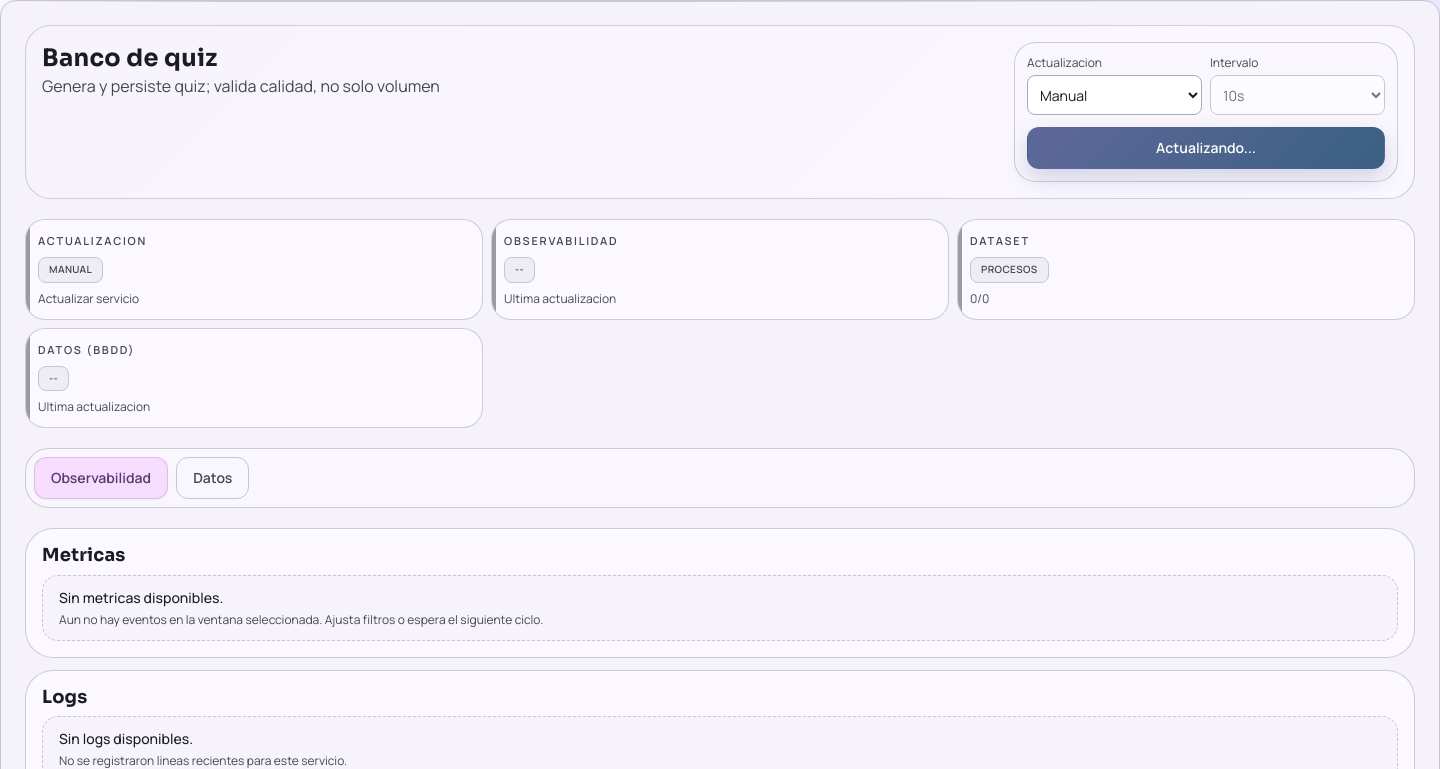
it: ServiceConsolePanel integration › shows and clears follow-task state inside process filters
Step 1. Click the tab "Datos" → (213, 478), box [176,457,249,499]
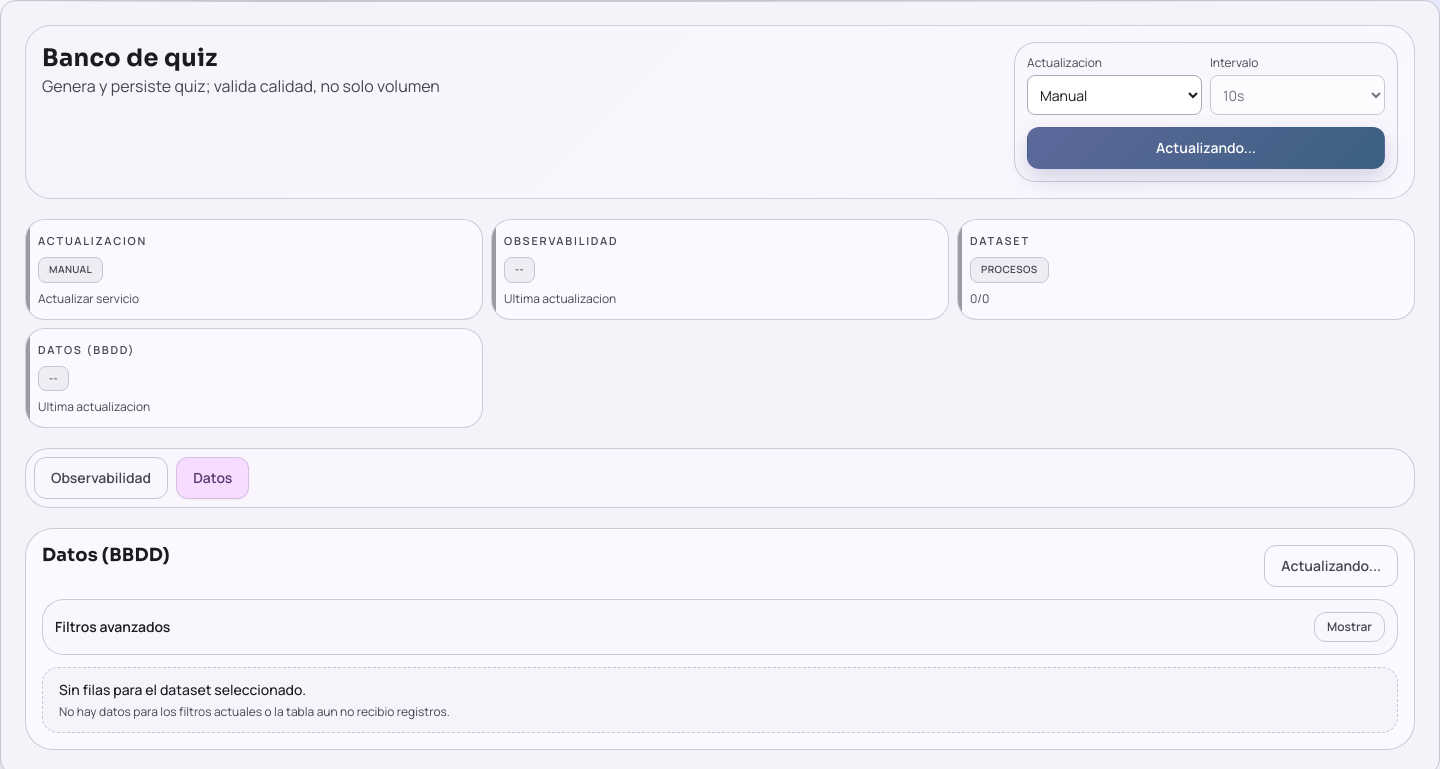
Step 2. Click the button "Mostrar" → (1350, 627), box [1314,612,1385,642]
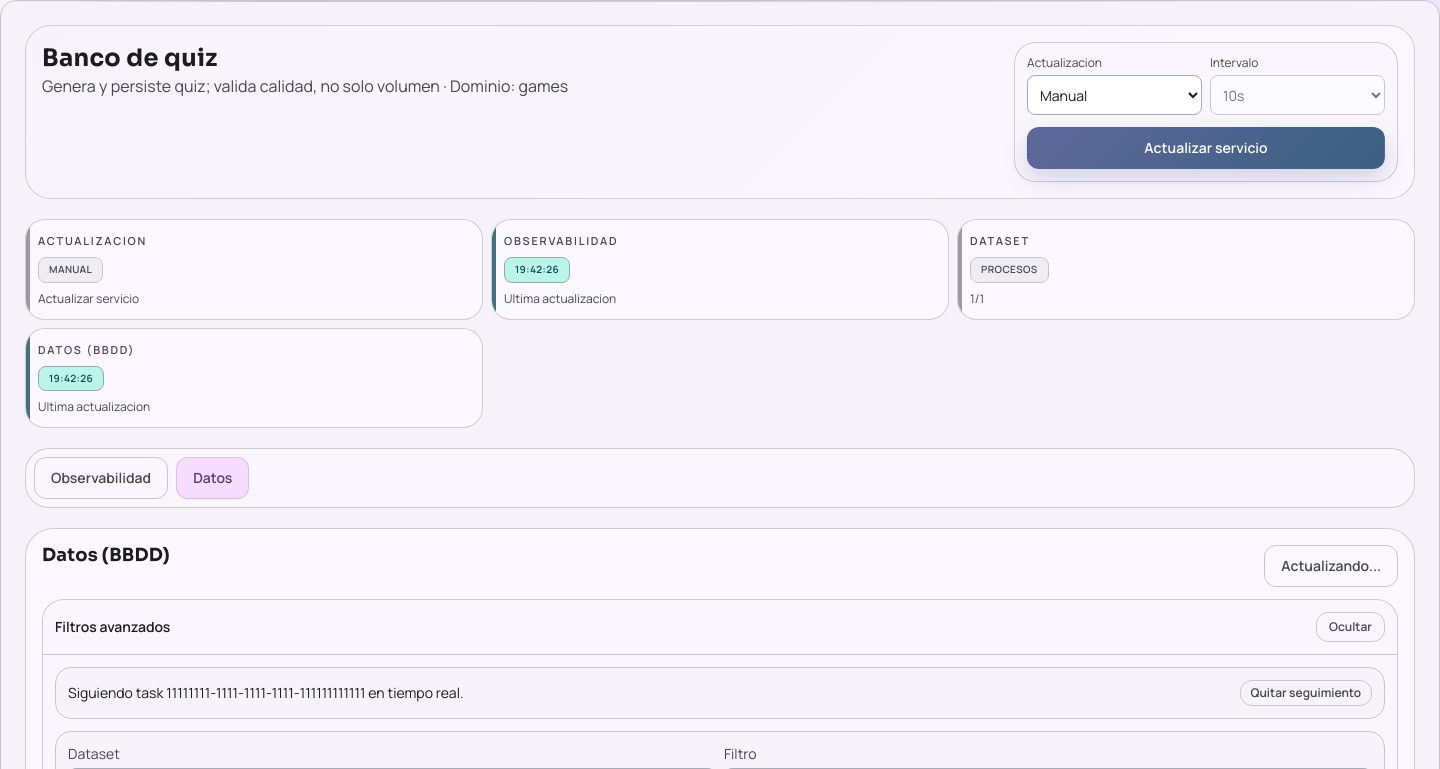
Now the text "Siguiendo task 11111111-1111-1111-1111-111111111111" is shown, box [68,683,464,702]
Now the button "Quitar seguimiento" is shown
Step 3. Click the button "Quitar seguimiento" → (1306, 693), box [1240,680,1372,706]
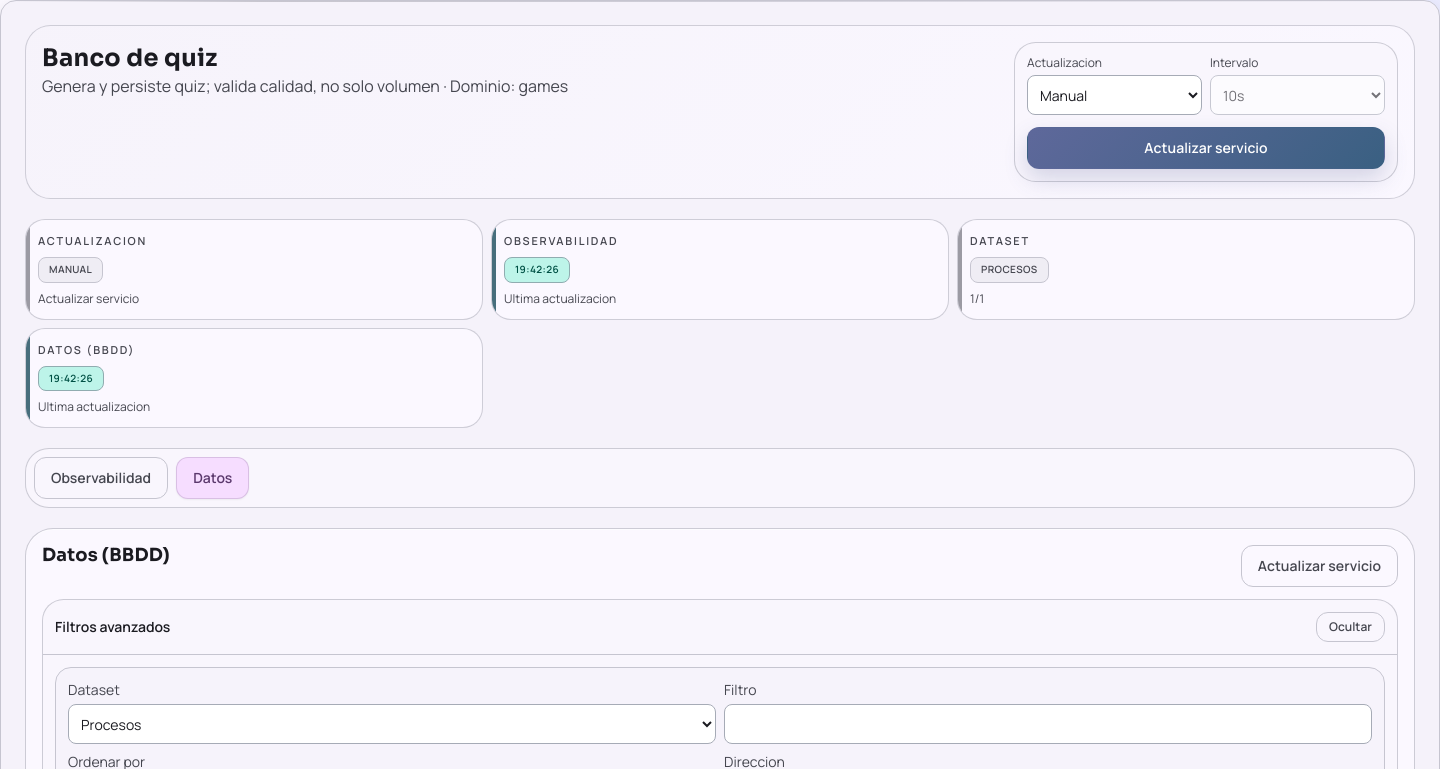
Now the text "Siguiendo task 11111111-1111-1111-1111-111111111111" is gone
